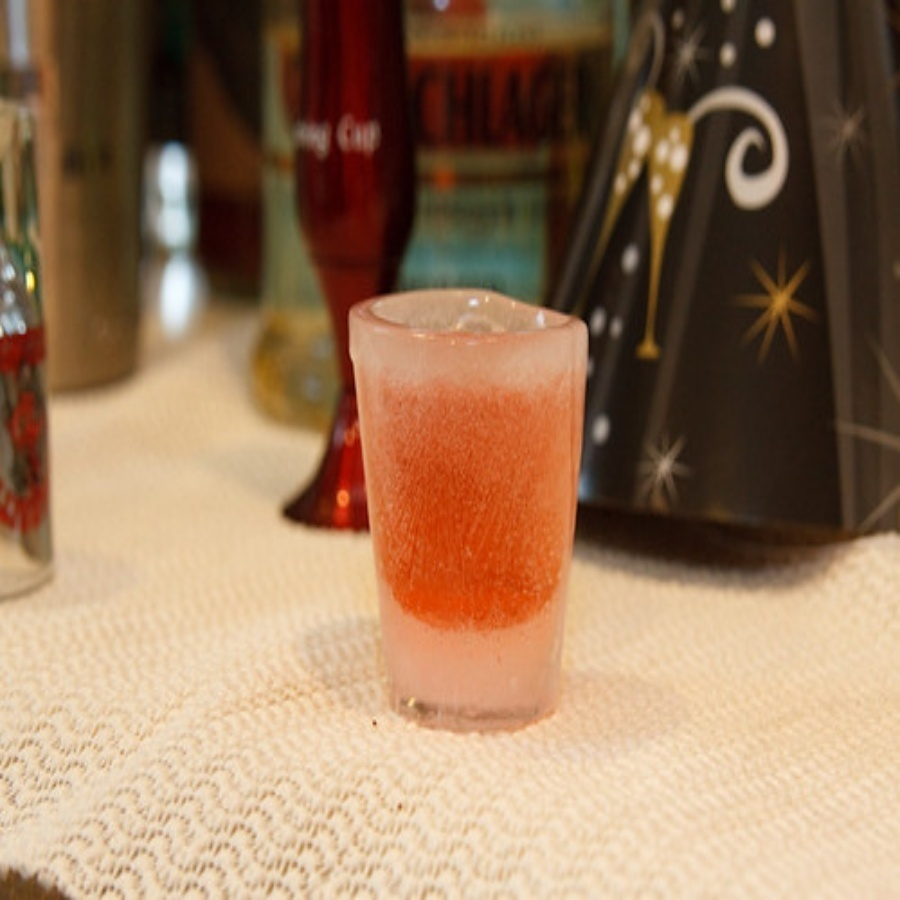whiskey: (339, 306, 590, 731)
